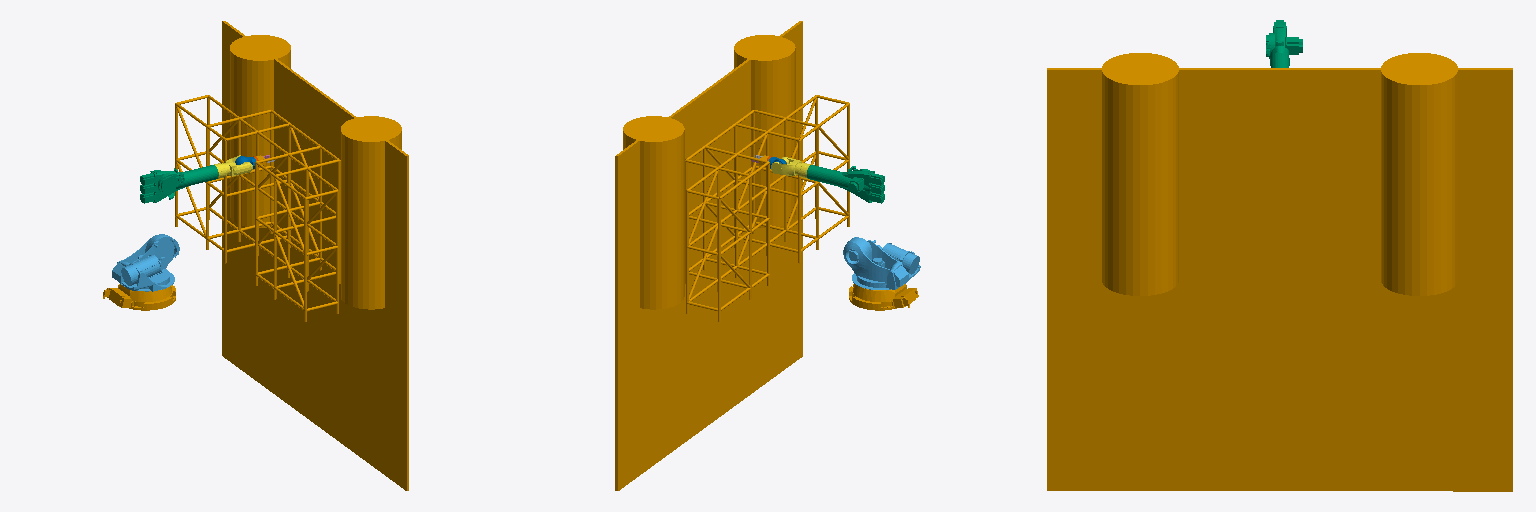
--- What the picture shows (computed from the rendered views, not written in the file) ---
The picture shows the robot from 3 angles, left to right: view 1: azimuth 30°, elevation 25°; view 2: azimuth 150°, elevation 25°; view 3: azimuth 270°, elevation 25°; orthographic projection.
Robot: scene — 10 links, 9 joints (6 revolute, 2 prismatic, 1 fixed); root link scene; default pose: all joints at 0.
Links seen in each view (by area): view 1: scene, scene_kuka_arm_link_1_kuka_arm_link_1, kuka_arm_link_3; view 2: scene, scene_kuka_arm_link_1_kuka_arm_link_1, kuka_arm_link_3, kuka_arm_link_4; view 3: scene, kuka_arm_link_3.
Boxes of the visible links, x1=… form: scene: x1=103, y1=21, x2=408, y2=490; scene_kuka_arm_link_1_kuka_arm_link_1: x1=112, y1=234, x2=179, y2=291; kuka_arm_link_3: x1=140, y1=165, x2=218, y2=203; scene: x1=615, y1=21, x2=918, y2=490; scene_kuka_arm_link_1_kuka_arm_link_1: x1=843, y1=237, x2=920, y2=289; kuka_arm_link_3: x1=807, y1=165, x2=884, y2=203; kuka_arm_link_4: x1=771, y1=157, x2=810, y2=178; scene: x1=1047, y1=53, x2=1512, y2=491; kuka_arm_link_3: x1=1266, y1=20, x2=1302, y2=67.
Size in the robot's own frame: 4.38 by 6 by 6 metres.
Meshes: 20 distinct files referenced, 18 mesh visuals loaded (18 OBJ); not drawn: 2 (reference not matched to a file when rendering).

The robot description file, URDF, robot "scene":
<?xml version="1.0" encoding="UTF-8"?>
<robot name="scene">
  <joint name="joint_1" type="revolute">
    <origin xyz="0. 0. 0.33" rpy="0. -1.5707964 0. "/>
    <parent link="scene"/>
    <child link="scene_kuka_arm_link_1_kuka_arm_link_1"/>
    <axis xyz="1. 0. 0."/>
    <limit lower="-3.2288596" upper="3.2288596" effort="0." velocity="17453.2925199"/>
  </joint>
  <joint name="joint_2" type="revolute">
    <origin xyz="0.42 0. -0.35" rpy="1.5707964 0. 1.5707964"/>
    <parent link="scene_kuka_arm_link_1_kuka_arm_link_1"/>
    <child link="kuka_arm_link_2"/>
    <axis xyz="1. 0. 0."/>
    <limit lower="-0.785398" upper="1.48353" effort="0." velocity="17453.2925199"/>
  </joint>
  <joint name="joint_3" type="revolute">
    <origin xyz="0. 0. 1.25" rpy="0. 0. 0."/>
    <parent link="kuka_arm_link_2"/>
    <child link="kuka_arm_link_3"/>
    <axis xyz="1. 0. 0."/>
    <limit lower="-3.6651898" upper="1.1344599" effort="0." velocity="17453.2925199"/>
  </joint>
  <joint name="joint_4" type="revolute">
    <origin xyz="0. -0.9599999 -0.054 " rpy="0. 0. -1.5707964"/>
    <parent link="kuka_arm_link_3"/>
    <child link="kuka_arm_link_4"/>
    <axis xyz="1. 0. 0."/>
    <limit lower="-6.1086497" upper="6.1086497" effort="0." velocity="17453.2925199"/>
  </joint>
  <joint name="joint_5" type="revolute">
    <origin xyz="0.54 0. 0. " rpy="0. 0. 1.5707964"/>
    <parent link="kuka_arm_link_4"/>
    <child link="kuka_arm_link_5"/>
    <axis xyz="1. 0. 0."/>
    <limit lower="-2.1816598" upper="2.1816598" effort="0." velocity="17453.2925199"/>
  </joint>
  <joint name="joint_6" type="revolute">
    <origin xyz="0. -0.1930001 0. " rpy="0. 0. -1.5707964"/>
    <parent link="kuka_arm_link_5"/>
    <child link="kuka_arm_link_6"/>
    <axis xyz="1. 0. 0."/>
    <limit lower="-6.1086497" upper="6.1086497" effort="0." velocity="17453.2925199"/>
  </joint>
  <joint name="left_gripper_finger_joint" type="prismatic">
    <origin xyz="0.26 0.0725 0. " rpy="3.1415927 0. -1.5707964"/>
    <parent link="kuka_arm_link_6"/>
    <child link="left_gripper_finger_link"/>
    <axis xyz="1. 0. 0."/>
    <limit lower="-0.01" upper="0.06" effort="0." velocity="1000000."/>
  </joint>
  <joint name="right_gripper_finger_joint" type="prismatic">
    <origin xyz="0.26 -0.0725 0. " rpy="0. 0. 1.5707964"/>
    <parent link="kuka_arm_link_6"/>
    <child link="right_gripper_finger_link"/>
    <axis xyz="1. 0. 0."/>
    <limit lower="-0.01" upper="0.06" effort="0." velocity="1000000."/>
  </joint>

    <joint name="gripper_joint" type="fixed">
        <parent link="kuka_arm_link_6"/>
        <child link="gripper_link"/>
        <origin rpy="1.57 0 0" xyz="0.11 0 0"/>
        <axis xyz="0 1 0"/>
    </joint>
    <link name="gripper_link">
        <inertial>
            <origin rpy="0 0 0" xyz="0 0 0"/>
            <mass value="0.3"/>
            <inertia ixx="0.0001" ixy="0" ixz="0" iyy="0.0002" iyz="0" izz="0.0001"/>
        </inertial>
        <visual>
            <origin rpy="0 0 0" xyz="0 0 0"/>
            <geometry>
                <mesh filename="meshes/kuka_arm_link_6_visuals_gripper_base_mesh.obj"/>
            </geometry>
        </visual>
        <collision>
            <origin rpy="0 0 0" xyz="0 0 0"/>
            <geometry>
                <mesh filename="meshes/kuka_arm_link_6_visuals_gripper_base_mesh.obj"/>
            </geometry>
        </collision>
    </link>

  <link name="kuka_arm_link_2">
    <visual>
      <origin xyz="0. 0. 0." rpy="-0.0000091 0. -1.5707964"/>
      <geometry>
        <mesh filename="meshes/kuka_arm_link_2_visuals_mesh.obj" scale="1. 1. 1."/>
      </geometry>
    </visual>
    <visual>
      <origin xyz="0. 0. 0." rpy="-0.0000091 0. -1.5707964"/>
      <geometry>
        <mesh filename="meshes/kuka_arm_link_2_collisions_mesh.obj" scale="1. 1. 1."/>
      </geometry>
    </visual>
  </link>
  <link name="kuka_arm_link_3">
    <visual>
      <origin xyz="-0.184 0. 0. " rpy="-0.0000091 0. -1.5707964"/>
      <geometry>
        <mesh filename="meshes/kuka_arm_link_3_visuals_mesh.obj" scale="1. 1. 1."/>
      </geometry>
    </visual>
    <visual>
      <origin xyz="-0.184 0. 0. " rpy="-0.0000091 0. -1.5707964"/>
      <geometry>
        <mesh filename="meshes/kuka_arm_link_3_collisions_mesh.obj" scale="1. 1. 1."/>
      </geometry>
    </visual>
  </link>
  <link name="kuka_arm_link_4">
    <visual>
      <origin xyz="0. 0. 0." rpy="-0.0000091 0. 0. "/>
      <geometry>
        <mesh filename="meshes/kuka_arm_link_4_visuals_mesh.obj" scale="1. 1. 1."/>
      </geometry>
    </visual>
    <visual>
      <origin xyz="0. 0. 0." rpy="-0.0000091 0. 0. "/>
      <geometry>
        <mesh filename="meshes/kuka_arm_link_4_collisions_mesh.obj" scale="1. 1. 1."/>
      </geometry>
    </visual>
  </link>
  <link name="kuka_arm_link_5">
    <visual>
      <origin xyz="0. 0.0000001 0. " rpy="-0.0000091 0. -1.5707964"/>
      <geometry>
        <mesh filename="meshes/kuka_arm_link_5_visuals_mesh.obj" scale="1. 1. 1."/>
      </geometry>
    </visual>
    <visual>
      <origin xyz="0. 0.0000001 0. " rpy="-0.0000091 0. -1.5707964"/>
      <geometry>
        <mesh filename="meshes/kuka_arm_link_5_collisions_mesh.obj" scale="1. 1. 1."/>
      </geometry>
    </visual>
  </link>
  <link name="kuka_arm_link_6">
    <visual>
      <origin xyz="0.0000001 0. 0. " rpy="1.570788 0. 0. "/>
      <geometry>
        <mesh filename="meshes/kuka_arm_link_6_visuals_mesh.obj" scale="1. 1. 1."/>
      </geometry>
    </visual>
    <visual>
      <origin xyz="0.0000001 0. 0. " rpy="1.570788 0. 0. "/>
      <geometry>
        <mesh filename="meshes/kuka_arm_link_6_collisions_mesh.obj" scale="1. 1. 1."/>
      </geometry>
    </visual>
  </link>
  <link name="left_gripper_finger_link">
    <visual>
      <origin xyz="0. 0. 0." rpy="-1.5708046 0. -1.5707964"/>
      <geometry>
        <mesh filename="meshes/left_gripper_finger_link_visuals_mesh.obj" scale="1. 1. 1."/>
      </geometry>
    </visual>
    <visual>
      <origin xyz="0. 0. 0." rpy="-1.5708046 0. -1.5707964"/>
      <geometry>
        <mesh filename="meshes/left_gripper_finger_link_collisions_mesh.obj" scale="1. 1. 1."/>
      </geometry>
    </visual>
  </link>
  <link name="right_gripper_finger_link">
    <visual>
      <origin xyz="0. 0. 0." rpy="1.570788 0. -1.5707964"/>
      <geometry>
        <mesh filename="meshes/right_gripper_finger_link_visuals_mesh.obj" scale="1. 1. 1."/>
      </geometry>
    </visual>
    <visual>
      <origin xyz="0. 0. 0." rpy="1.570788 0. -1.5707964"/>
      <geometry>
        <mesh filename="meshes/right_gripper_finger_link_collisions_mesh.obj" scale="1. 1. 1."/>
      </geometry>
    </visual>
  </link>
  <link name="scene">
    <visual>
      <origin xyz="0. 0. 0." rpy="-0.0000091 0. 0. "/>
      <geometry>
        <mesh filename="meshes/worldBody___visuals___mesh.obj" scale="1. 1. 1."/>
      </geometry>
    </visual>
    <visual>
      <origin xyz="0. 0. 0." rpy="-0.0000091 0. 0. "/>
      <geometry>
        <mesh filename="meshes/worldBody___collisions___mesh.obj" scale="1. 1. 1."/>
      </geometry>
    </visual>
    <visual>
      <origin xyz="0. 0. 0." rpy="0. 0. 0."/>
      <geometry>
        <mesh filename="meshes/worldBody_floor_visuals_floor_floor.obj" scale="1. 1. 1."/>
      </geometry>
    </visual>
    <visual>
      <origin xyz="3.2 0. 0. " rpy="0. 0. 1.57"/>
      <geometry>
        <box size="6. 0.05 6. "/>
      </geometry>
    </visual>
    <visual>
      <origin xyz="3.2 -1.8 1.5" rpy="0. 0. 1.57"/>
      <geometry>
        <cylinder radius="0.5" length="3."/>
      </geometry>
    </visual>
    <visual>
      <origin xyz="3.2 1.8 1.5" rpy="0. 0. 1.57"/>
      <geometry>
        <cylinder radius="0.5" length="3."/>
      </geometry>
    </visual>
    <visual>
      <origin xyz="3. 0.5 0.6" rpy="0. 0. 0."/>
      <geometry>
        <cylinder radius="0.024" length="1.2"/>
      </geometry>
    </visual>
    <visual>
      <origin xyz="3. -0.5 0.6" rpy="0. 0. 0."/>
      <geometry>
        <cylinder radius="0.024" length="1.2"/>
      </geometry>
    </visual>
    <visual>
      <origin xyz="2.4 0.5 0.6" rpy="0. 0. 0."/>
      <geometry>
        <cylinder radius="0.024" length="1.2"/>
      </geometry>
    </visual>
    <visual>
      <origin xyz="2.4 -0.5 0.6" rpy="0. 0. 0."/>
      <geometry>
        <cylinder radius="0.024" length="1.2"/>
      </geometry>
    </visual>
    <visual>
      <origin xyz="2.7 0.5 0.2" rpy="0. 1.57 0. "/>
      <geometry>
        <cylinder radius="0.024" length="0.6"/>
      </geometry>
    </visual>
    <visual>
      <origin xyz="2.7 -0.5 0.2" rpy="0. 1.57 0. "/>
      <geometry>
        <cylinder radius="0.024" length="0.6"/>
      </geometry>
    </visual>
    <visual>
      <origin xyz="2.4 0. 0.2" rpy="1.57 0. 0. "/>
      <geometry>
        <cylinder radius="0.024" length="1."/>
      </geometry>
    </visual>
    <visual>
      <origin xyz="3. 0. 0.2" rpy="1.57 0. 0. "/>
      <geometry>
        <cylinder radius="0.024" length="1."/>
      </geometry>
    </visual>
    <visual>
      <origin xyz="2.7 0.5 1.2" rpy="0. 1.57 0. "/>
      <geometry>
        <cylinder radius="0.024" length="0.6"/>
      </geometry>
    </visual>
    <visual>
      <origin xyz="2.7 -0.5 1.2" rpy="0. 1.57 0. "/>
      <geometry>
        <cylinder radius="0.024" length="0.6"/>
      </geometry>
    </visual>
    <visual>
      <origin xyz="2.4 0. 1.2" rpy="1.57 0. 0. "/>
      <geometry>
        <cylinder radius="0.024" length="1."/>
      </geometry>
    </visual>
    <visual>
      <origin xyz="3. 0. 1.2" rpy="1.57 0. 0. "/>
      <geometry>
        <cylinder radius="0.024" length="1."/>
      </geometry>
    </visual>
    <visual>
      <origin xyz="2.4 0. 0.7" rpy="0.785 0. 0. "/>
      <geometry>
        <cylinder radius="0.024" length="1.414"/>
      </geometry>
    </visual>
    <visual>
      <origin xyz="3. 0. 0.7" rpy="-0.785 0. 0. "/>
      <geometry>
        <cylinder radius="0.024" length="1.414"/>
      </geometry>
    </visual>
    <visual>
      <origin xyz="3. 0.5 1.7" rpy="0. 0. 0."/>
      <geometry>
        <cylinder radius="0.024" length="1."/>
      </geometry>
    </visual>
    <visual>
      <origin xyz="3. -0.5 1.7" rpy="0. 0. 0."/>
      <geometry>
        <cylinder radius="0.024" length="1."/>
      </geometry>
    </visual>
    <visual>
      <origin xyz="2.4 0.5 1.7" rpy="0. 0. 0."/>
      <geometry>
        <cylinder radius="0.024" length="1."/>
      </geometry>
    </visual>
    <visual>
      <origin xyz="2.4 -0.5 1.7" rpy="0. 0. 0."/>
      <geometry>
        <cylinder radius="0.024" length="1."/>
      </geometry>
    </visual>
    <visual>
      <origin xyz="2.7 0.5 2.2" rpy="0. 1.57 0. "/>
      <geometry>
        <cylinder radius="0.024" length="0.6"/>
      </geometry>
    </visual>
    <visual>
      <origin xyz="2.7 -0.5 2.2" rpy="0. 1.57 0. "/>
      <geometry>
        <cylinder radius="0.024" length="0.6"/>
      </geometry>
    </visual>
    <visual>
      <origin xyz="2.4 0. 2.2" rpy="1.57 0. 0. "/>
      <geometry>
        <cylinder radius="0.024" length="1."/>
      </geometry>
    </visual>
    <visual>
      <origin xyz="3. 0. 2.2" rpy="1.57 0. 0. "/>
      <geometry>
        <cylinder radius="0.024" length="1."/>
      </geometry>
    </visual>
    <visual>
      <origin xyz="2.4 0. 1.7" rpy="0.785 0. 0. "/>
      <geometry>
        <cylinder radius="0.024" length="1.414"/>
      </geometry>
    </visual>
    <visual>
      <origin xyz="3. 0. 1.7" rpy="-0.785 0. 0. "/>
      <geometry>
        <cylinder radius="0.024" length="1.414"/>
      </geometry>
    </visual>
    <visual>
      <origin xyz="3. 1.1 1.7" rpy="0. 0. 0."/>
      <geometry>
        <cylinder radius="0.024" length="1."/>
      </geometry>
    </visual>
    <visual>
      <origin xyz="2.4 1.1 1.7" rpy="0. 0. 0."/>
      <geometry>
        <cylinder radius="0.024" length="1."/>
      </geometry>
    </visual>
    <visual>
      <origin xyz="3. 1.1 0.6" rpy="0. 0. 0."/>
      <geometry>
        <cylinder radius="0.024" length="1.2"/>
      </geometry>
    </visual>
    <visual>
      <origin xyz="2.4 1.1 0.6" rpy="0. 0. 0."/>
      <geometry>
        <cylinder radius="0.024" length="1.2"/>
      </geometry>
    </visual>
    <visual>
      <origin xyz="3. -1.1 1.7" rpy="0. 0. 0."/>
      <geometry>
        <cylinder radius="0.024" length="1."/>
      </geometry>
    </visual>
    <visual>
      <origin xyz="2.4 -1.1 1.7" rpy="0. 0. 0."/>
      <geometry>
        <cylinder radius="0.024" length="1."/>
      </geometry>
    </visual>
    <visual>
      <origin xyz="3. -1.1 0.6" rpy="0. 0. 0."/>
      <geometry>
        <cylinder radius="0.024" length="1.2"/>
      </geometry>
    </visual>
    <visual>
      <origin xyz="2.4 -1.1 0.6" rpy="0. 0. 0."/>
      <geometry>
        <cylinder radius="0.024" length="1.2"/>
      </geometry>
    </visual>
    <visual>
      <origin xyz="2.7 1.1 0.2" rpy="0. 1.57 0. "/>
      <geometry>
        <cylinder radius="0.024" length="0.6"/>
      </geometry>
    </visual>
    <visual>
      <origin xyz="2.7 1.1 1.2" rpy="0. 1.57 0. "/>
      <geometry>
        <cylinder radius="0.024" length="0.6"/>
      </geometry>
    </visual>
    <visual>
      <origin xyz="2.7 1.1 2.2" rpy="0. 1.57 0. "/>
      <geometry>
        <cylinder radius="0.024" length="0.6"/>
      </geometry>
    </visual>
    <visual>
      <origin xyz="2.7 -1.1 0.2" rpy="0. 1.57 0. "/>
      <geometry>
        <cylinder radius="0.024" length="0.6"/>
      </geometry>
    </visual>
    <visual>
      <origin xyz="2.7 -1.1 1.2" rpy="0. 1.57 0. "/>
      <geometry>
        <cylinder radius="0.024" length="0.6"/>
      </geometry>
    </visual>
    <visual>
      <origin xyz="2.7 -1.1 2.2" rpy="0. 1.57 0. "/>
      <geometry>
        <cylinder radius="0.024" length="0.6"/>
      </geometry>
    </visual>
    <visual>
      <origin xyz="2.4 -0.8 0.2" rpy="1.57 0. 0. "/>
      <geometry>
        <cylinder radius="0.024" length="0.6"/>
      </geometry>
    </visual>
    <visual>
      <origin xyz="2.4 -0.8 1.2" rpy="1.57 0. 0. "/>
      <geometry>
        <cylinder radius="0.024" length="0.6"/>
      </geometry>
    </visual>
    <visual>
      <origin xyz="2.4 -0.8 2.2" rpy="1.57 0. 0. "/>
      <geometry>
        <cylinder radius="0.024" length="0.6"/>
      </geometry>
    </visual>
    <visual>
      <origin xyz="3. -0.8 0.2" rpy="1.57 0. 0. "/>
      <geometry>
        <cylinder radius="0.024" length="0.6"/>
      </geometry>
    </visual>
    <visual>
      <origin xyz="3. -0.8 1.2" rpy="1.57 0. 0. "/>
      <geometry>
        <cylinder radius="0.024" length="0.6"/>
      </geometry>
    </visual>
    <visual>
      <origin xyz="3. -0.8 2.2" rpy="1.57 0. 0. "/>
      <geometry>
        <cylinder radius="0.024" length="0.6"/>
      </geometry>
    </visual>
    <visual>
      <origin xyz="2.4 0.8 0.2" rpy="1.57 0. 0. "/>
      <geometry>
        <cylinder radius="0.024" length="0.6"/>
      </geometry>
    </visual>
    <visual>
      <origin xyz="2.4 0.8 1.2" rpy="1.57 0. 0. "/>
      <geometry>
        <cylinder radius="0.024" length="0.6"/>
      </geometry>
    </visual>
    <visual>
      <origin xyz="2.4 0.8 2.2" rpy="1.57 0. 0. "/>
      <geometry>
        <cylinder radius="0.024" length="0.6"/>
      </geometry>
    </visual>
    <visual>
      <origin xyz="3. 0.8 0.2" rpy="1.57 0. 0. "/>
      <geometry>
        <cylinder radius="0.024" length="0.6"/>
      </geometry>
    </visual>
    <visual>
      <origin xyz="3. 0.8 1.2" rpy="1.57 0. 0. "/>
      <geometry>
        <cylinder radius="0.024" length="0.6"/>
      </geometry>
    </visual>
    <visual>
      <origin xyz="3. 0.8 2.2" rpy="1.57 0. 0. "/>
      <geometry>
        <cylinder radius="0.024" length="0.6"/>
      </geometry>
    </visual>
    <visual>
      <origin xyz="1.8 1.1 1.7" rpy="0. 0. 0."/>
      <geometry>
        <cylinder radius="0.024" length="1."/>
      </geometry>
    </visual>
    <visual>
      <origin xyz="1.8 1.1 0.6" rpy="0. 0. 0."/>
      <geometry>
        <cylinder radius="0.024" length="1.2"/>
      </geometry>
    </visual>
    <visual>
      <origin xyz="1.8 0.5 1.7" rpy="0. 0. 0."/>
      <geometry>
        <cylinder radius="0.024" length="1."/>
      </geometry>
    </visual>
    <visual>
      <origin xyz="1.8 0.5 0.6" rpy="0. 0. 0."/>
      <geometry>
        <cylinder radius="0.024" length="1.2"/>
      </geometry>
    </visual>
    <visual>
      <origin xyz="1.8 -1.1 1.7" rpy="0. 0. 0."/>
      <geometry>
        <cylinder radius="0.024" length="1."/>
      </geometry>
    </visual>
    <visual>
      <origin xyz="1.8 -1.1 0.6" rpy="0. 0. 0."/>
      <geometry>
        <cylinder radius="0.024" length="1.2"/>
      </geometry>
    </visual>
    <visual>
      <origin xyz="1.8 -0.5 1.7" rpy="0. 0. 0."/>
      <geometry>
        <cylinder radius="0.024" length="1."/>
      </geometry>
    </visual>
    <visual>
      <origin xyz="1.8 -0.5 0.6" rpy="0. 0. 0."/>
      <geometry>
        <cylinder radius="0.024" length="1.2"/>
      </geometry>
    </visual>
    <visual>
      <origin xyz="2.1 1.1 0.2" rpy="0. 1.57 0. "/>
      <geometry>
        <cylinder radius="0.024" length="0.6"/>
      </geometry>
    </visual>
    <visual>
      <origin xyz="2.1 1.1 1.2" rpy="0. 1.57 0. "/>
      <geometry>
        <cylinder radius="0.024" length="0.6"/>
      </geometry>
    </visual>
    <visual>
      <origin xyz="2.1 1.1 2.2" rpy="0. 1.57 0. "/>
      <geometry>
        <cylinder radius="0.024" length="0.6"/>
      </geometry>
    </visual>
    <visual>
      <origin xyz="2.1 -1.1 0.2" rpy="0. 1.57 0. "/>
      <geometry>
        <cylinder radius="0.024" length="0.6"/>
      </geometry>
    </visual>
    <visual>
      <origin xyz="2.1 -1.1 1.2" rpy="0. 1.57 0. "/>
      <geometry>
        <cylinder radius="0.024" length="0.6"/>
      </geometry>
    </visual>
    <visual>
      <origin xyz="2.1 -1.1 2.2" rpy="0. 1.57 0. "/>
      <geometry>
        <cylinder radius="0.024" length="0.6"/>
      </geometry>
    </visual>
    <visual>
      <origin xyz="2.1 0.5 0.2" rpy="0. 1.57 0. "/>
      <geometry>
        <cylinder radius="0.024" length="0.6"/>
      </geometry>
    </visual>
    <visual>
      <origin xyz="2.1 0.5 1.2" rpy="0. 1.57 0. "/>
      <geometry>
        <cylinder radius="0.024" length="0.6"/>
      </geometry>
    </visual>
    <visual>
      <origin xyz="2.1 0.5 2.2" rpy="0. 1.57 0. "/>
      <geometry>
        <cylinder radius="0.024" length="0.6"/>
      </geometry>
    </visual>
    <visual>
      <origin xyz="2.1 -0.5 0.2" rpy="0. 1.57 0. "/>
      <geometry>
        <cylinder radius="0.024" length="0.6"/>
      </geometry>
    </visual>
    <visual>
      <origin xyz="2.1 -0.5 1.2" rpy="0. 1.57 0. "/>
      <geometry>
        <cylinder radius="0.024" length="0.6"/>
      </geometry>
    </visual>
    <visual>
      <origin xyz="2.1 -0.5 2.2" rpy="0. 1.57 0. "/>
      <geometry>
        <cylinder radius="0.024" length="0.6"/>
      </geometry>
    </visual>
    <visual>
      <origin xyz="1.8 -0.8 0.2" rpy="1.57 0. 0. "/>
      <geometry>
        <cylinder radius="0.024" length="0.6"/>
      </geometry>
    </visual>
    <visual>
      <origin xyz="1.8 -0.8 1.2" rpy="1.57 0. 0. "/>
      <geometry>
        <cylinder radius="0.024" length="0.6"/>
      </geometry>
    </visual>
    <visual>
      <origin xyz="1.8 -0.8 2.2" rpy="1.57 0. 0. "/>
      <geometry>
        <cylinder radius="0.024" length="0.6"/>
      </geometry>
    </visual>
    <visual>
      <origin xyz="1.8 0.8 0.2" rpy="1.57 0. 0. "/>
      <geometry>
        <cylinder radius="0.024" length="0.6"/>
      </geometry>
    </visual>
    <visual>
      <origin xyz="1.8 0.8 1.2" rpy="1.57 0. 0. "/>
      <geometry>
        <cylinder radius="0.024" length="0.6"/>
      </geometry>
    </visual>
    <visual>
      <origin xyz="1.8 0.8 2.2" rpy="1.57 0. 0. "/>
      <geometry>
        <cylinder radius="0.024" length="0.6"/>
      </geometry>
    </visual>
    <visual>
      <origin xyz="1.8 2.1 1.7" rpy="0. 0. 0."/>
      <geometry>
        <cylinder radius="0.024" length="1."/>
      </geometry>
    </visual>
    <visual>
      <origin xyz="1.8 2.1 0.6" rpy="0. 0. 0."/>
      <geometry>
        <cylinder radius="0.024" length="1.2"/>
      </geometry>
    </visual>
    <visual>
      <origin xyz="1.8 -2.1 1.7" rpy="0. 0. 0."/>
      <geometry>
        <cylinder radius="0.024" length="1."/>
      </geometry>
    </visual>
    <visual>
      <origin xyz="1.8 -2.1 0.6" rpy="0. 0. 0."/>
      <geometry>
        <cylinder radius="0.024" length="1.2"/>
      </geometry>
    </visual>
    <visual>
      <origin xyz="2.4 2.1 1.7" rpy="0. 0. 0."/>
      <geometry>
        <cylinder radius="0.024" length="1."/>
      </geometry>
    </visual>
    <visual>
      <origin xyz="2.4 2.1 0.6" rpy="0. 0. 0."/>
      <geometry>
        <cylinder radius="0.024" length="1.2"/>
      </geometry>
    </visual>
    <visual>
      <origin xyz="2.4 -2.1 1.7" rpy="0. 0. 0."/>
      <geometry>
        <cylinder radius="0.024" length="1."/>
      </geometry>
    </visual>
    <visual>
      <origin xyz="2.4 -2.1 0.6" rpy="0. 0. 0."/>
      <geometry>
        <cylinder radius="0.024" length="1.2"/>
      </geometry>
    </visual>
    <visual>
      <origin xyz="2.1 2.1 0.2" rpy="0. 1.57 0. "/>
      <geometry>
        <cylinder radius="0.024" length="0.6"/>
      </geometry>
    </visual>
    <visual>
      <origin xyz="2.1 2.1 1.2" rpy="0. 1.57 0. "/>
      <geometry>
        <cylinder radius="0.024" length="0.6"/>
      </geometry>
    </visual>
    <visual>
      <origin xyz="2.1 2.1 2.2" rpy="0. 1.57 0. "/>
      <geometry>
        <cylinder radius="0.024" length="0.6"/>
      </geometry>
    </visual>
    <visual>
      <origin xyz="2.1 -2.1 0.2" rpy="0. 1.57 0. "/>
      <geometry>
        <cylinder radius="0.024" length="0.6"/>
      </geometry>
    </visual>
    <visual>
      <origin xyz="2.1 -2.1 1.2" rpy="0. 1.57 0. "/>
      <geometry>
        <cylinder radius="0.024" length="0.6"/>
      </geometry>
    </visual>
    <visual>
      <origin xyz="2.1 -2.1 2.2" rpy="0. 1.57 0. "/>
      <geometry>
        <cylinder radius="0.024" length="0.6"/>
      </geometry>
    </visual>
    <visual>
      <origin xyz="1.8 -1.6 0.2" rpy="1.57 0. 0. "/>
      <geometry>
        <cylinder radius="0.024" length="1."/>
      </geometry>
    </visual>
    <visual>
      <origin xyz="1.8 -1.6 1.2" rpy="1.57 0. 0. "/>
      <geometry>
        <cylinder radius="0.024" length="1."/>
      </geometry>
    </visual>
    <visual>
      <origin xyz="1.8 -1.6 2.2" rpy="1.57 0. 0. "/>
      <geometry>
        <cylinder radius="0.024" length="1."/>
      </geometry>
    </visual>
    <visual>
      <origin xyz="1.8 1.6 0.2" rpy="1.57 0. 0. "/>
      <geometry>
        <cylinder radius="0.024" length="1."/>
      </geometry>
    </visual>
    <visual>
      <origin xyz="1.8 1.6 1.2" rpy="1.57 0. 0. "/>
      <geometry>
        <cylinder radius="0.024" length="1."/>
      </geometry>
    </visual>
    <visual>
      <origin xyz="1.8 1.6 2.2" rpy="1.57 0. 0. "/>
      <geometry>
        <cylinder radius="0.024" length="1."/>
      </geometry>
    </visual>
    <visual>
      <origin xyz="2.4 -1.6 0.2" rpy="1.57 0. 0. "/>
      <geometry>
        <cylinder radius="0.024" length="1."/>
      </geometry>
    </visual>
    <visual>
      <origin xyz="2.4 -1.6 1.2" rpy="1.57 0. 0. "/>
      <geometry>
        <cylinder radius="0.024" length="1."/>
      </geometry>
    </visual>
    <visual>
      <origin xyz="2.4 -1.6 2.2" rpy="1.57 0. 0. "/>
      <geometry>
        <cylinder radius="0.024" length="1."/>
      </geometry>
    </visual>
    <visual>
      <origin xyz="2.4 1.6 0.2" rpy="1.57 0. 0. "/>
      <geometry>
        <cylinder radius="0.024" length="1."/>
      </geometry>
    </visual>
    <visual>
      <origin xyz="2.4 1.6 1.2" rpy="1.57 0. 0. "/>
      <geometry>
        <cylinder radius="0.024" length="1."/>
      </geometry>
    </visual>
    <visual>
      <origin xyz="2.4 1.6 2.2" rpy="1.57 0. 0. "/>
      <geometry>
        <cylinder radius="0.024" length="1."/>
      </geometry>
    </visual>
    <visual>
      <origin xyz="2.4 1.6 0.7" rpy="0.785 0. 0. "/>
      <geometry>
        <cylinder radius="0.024" length="1.414"/>
      </geometry>
    </visual>
    <visual>
      <origin xyz="2.4 1.6 1.7" rpy="0.785 0. 0. "/>
      <geometry>
        <cylinder radius="0.024" length="1.414"/>
      </geometry>
    </visual>
    <visual>
      <origin xyz="1.8 1.6 1.7" rpy="-0.785 0. 0. "/>
      <geometry>
        <cylinder radius="0.024" length="1.414"/>
      </geometry>
    </visual>
    <visual>
      <origin xyz="1.8 1.6 0.7" rpy="-0.785 0. 0. "/>
      <geometry>
        <cylinder radius="0.024" length="1.414"/>
      </geometry>
    </visual>
    <visual>
      <origin xyz="2.4 -1.6 0.7" rpy="0.785 0. 0. "/>
      <geometry>
        <cylinder radius="0.024" length="1.414"/>
      </geometry>
    </visual>
    <visual>
      <origin xyz="2.4 -1.6 1.7" rpy="0.785 0. 0. "/>
      <geometry>
        <cylinder radius="0.024" length="1.414"/>
      </geometry>
    </visual>
    <visual>
      <origin xyz="1.8 -1.6 1.7" rpy="-0.785 0. 0. "/>
      <geometry>
        <cylinder radius="0.024" length="1.414"/>
      </geometry>
    </visual>
    <visual>
      <origin xyz="1.8 -1.6 0.7" rpy="-0.785 0. 0. "/>
      <geometry>
        <cylinder radius="0.024" length="1.414"/>
      </geometry>
    </visual>
  </link>
  <link name="scene_kuka_arm_link_1_kuka_arm_link_1">
    <visual>
      <origin xyz="0. 0. 0." rpy="1.570788 1.5707964 0. "/>
      <geometry>
        <mesh filename="meshes/scene_kuka_arm_link_1_kuka_arm_link_1_visuals_mesh.obj" scale="1. 1. 1."/>
      </geometry>
    </visual>
    <visual>
      <origin xyz="0. 0. 0." rpy="1.570788 1.5707964 0. "/>
      <geometry>
        <mesh filename="meshes/scene_kuka_arm_link_1_kuka_arm_link_1_collisions_mesh.obj" scale="1. 1. 1."/>
      </geometry>
    </visual>
  </link>
</robot>
